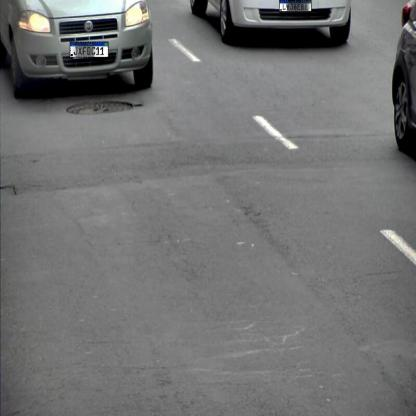PlacaM: (70, 42, 108, 58), (280, 0, 312, 12)
